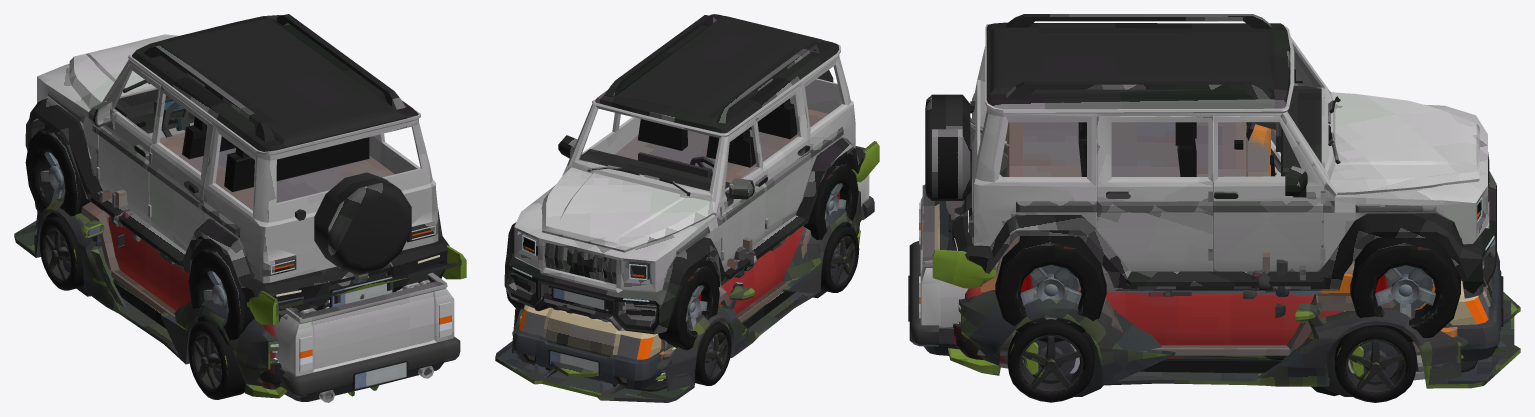
The model's file is everything.obj.
3 views of the same model, side by side, from view 1: azimuth 30°, elevation 25°; view 2: azimuth 150°, elevation 25°; view 3: azimuth 270°, elevation 25° (orthographic). The views are drawn at different scales.
Parts seen in each view (by area): view 1: Body1, Body3, Zentauribody1, Backtire1, Interior11, Wronklerbody1, Carbody4, Wheelfl11, Wheelrl11, Wheelrl1, Spoiler1, Wheelfl1 (+4 smaller); view 2: Body1, Zentauribody1, Chassis3, Interior11, Wronklerbody1, Wheelfl11, Wheelrl11, Carbody4, Wheelrl1, Wheelfl1, Frontlights3, Body4 (+4 smaller); view 3: Body1, Zentauribody1, Wronklerbody1, Carbody4, Wheelfr11, Wheelrr11, Body3, Backtire1, Wheelrr1, Interior11, Wheelfr1, Chassis3 (+10 smaller).
Boxes of the visible parts, x1,y1,x2,y2 form: Body1: (25,14,449,322); Body3: (112,192,460,397); Zentauribody1: (14,196,378,398); Backtire1: (314,172,411,275); Interior11: (115,89,369,191); Wronklerbody1: (81,133,394,317); Carbody4: (108,209,281,389); Wheelfl11: (25,127,90,219); Wheelrl11: (188,246,254,345); Wheelrl1: (188,321,245,399); Spoiler1: (247,245,466,324); Wheelfl1: (39,216,83,290); Body1: (504,14,865,334); Zentauribody1: (495,191,860,402); Chassis3: (512,206,862,388); Interior11: (580,98,797,191); Wronklerbody1: (615,109,827,322); Wheelfl11: (658,264,719,350); Wheelrl11: (803,162,858,245); Carbody4: (718,227,802,314); Wheelrl1: (821,226,859,292); Wheelfl1: (695,322,731,385); Frontlights3: (523,311,640,383); Body4: (517,266,795,391); Body1: (952,14,1496,298); Zentauribody1: (948,290,1520,388); Wronklerbody1: (996,122,1419,355); Carbody4: (953,270,1421,371); Wheelfr11: (1350,238,1460,342); Wheelrr11: (995,236,1106,342); Body3: (909,140,1433,346); Backtire1: (925,94,970,200); Wheelrr1: (1007,319,1094,402); Interior11: (1078,86,1321,176); Wheelfr1: (1334,326,1416,402); Chassis3: (924,203,1501,360).
Bounding box in the file's own units: 9.49 × 10.79 × 19.71.
